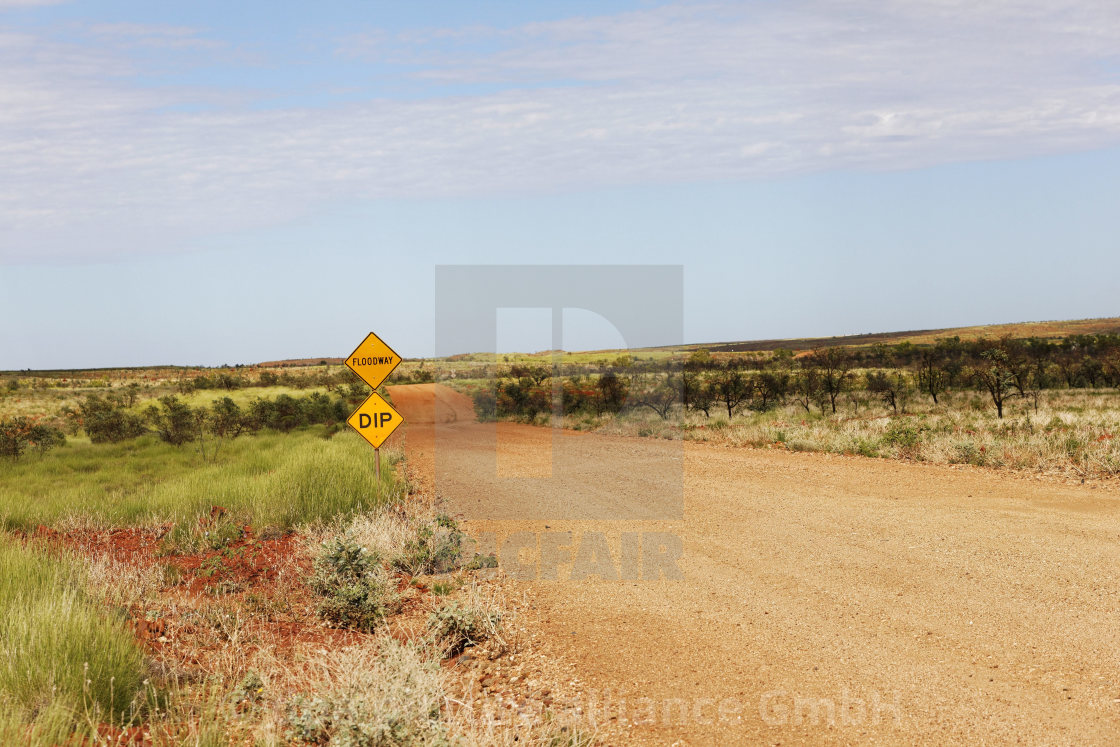dip: (343, 392, 403, 445)
